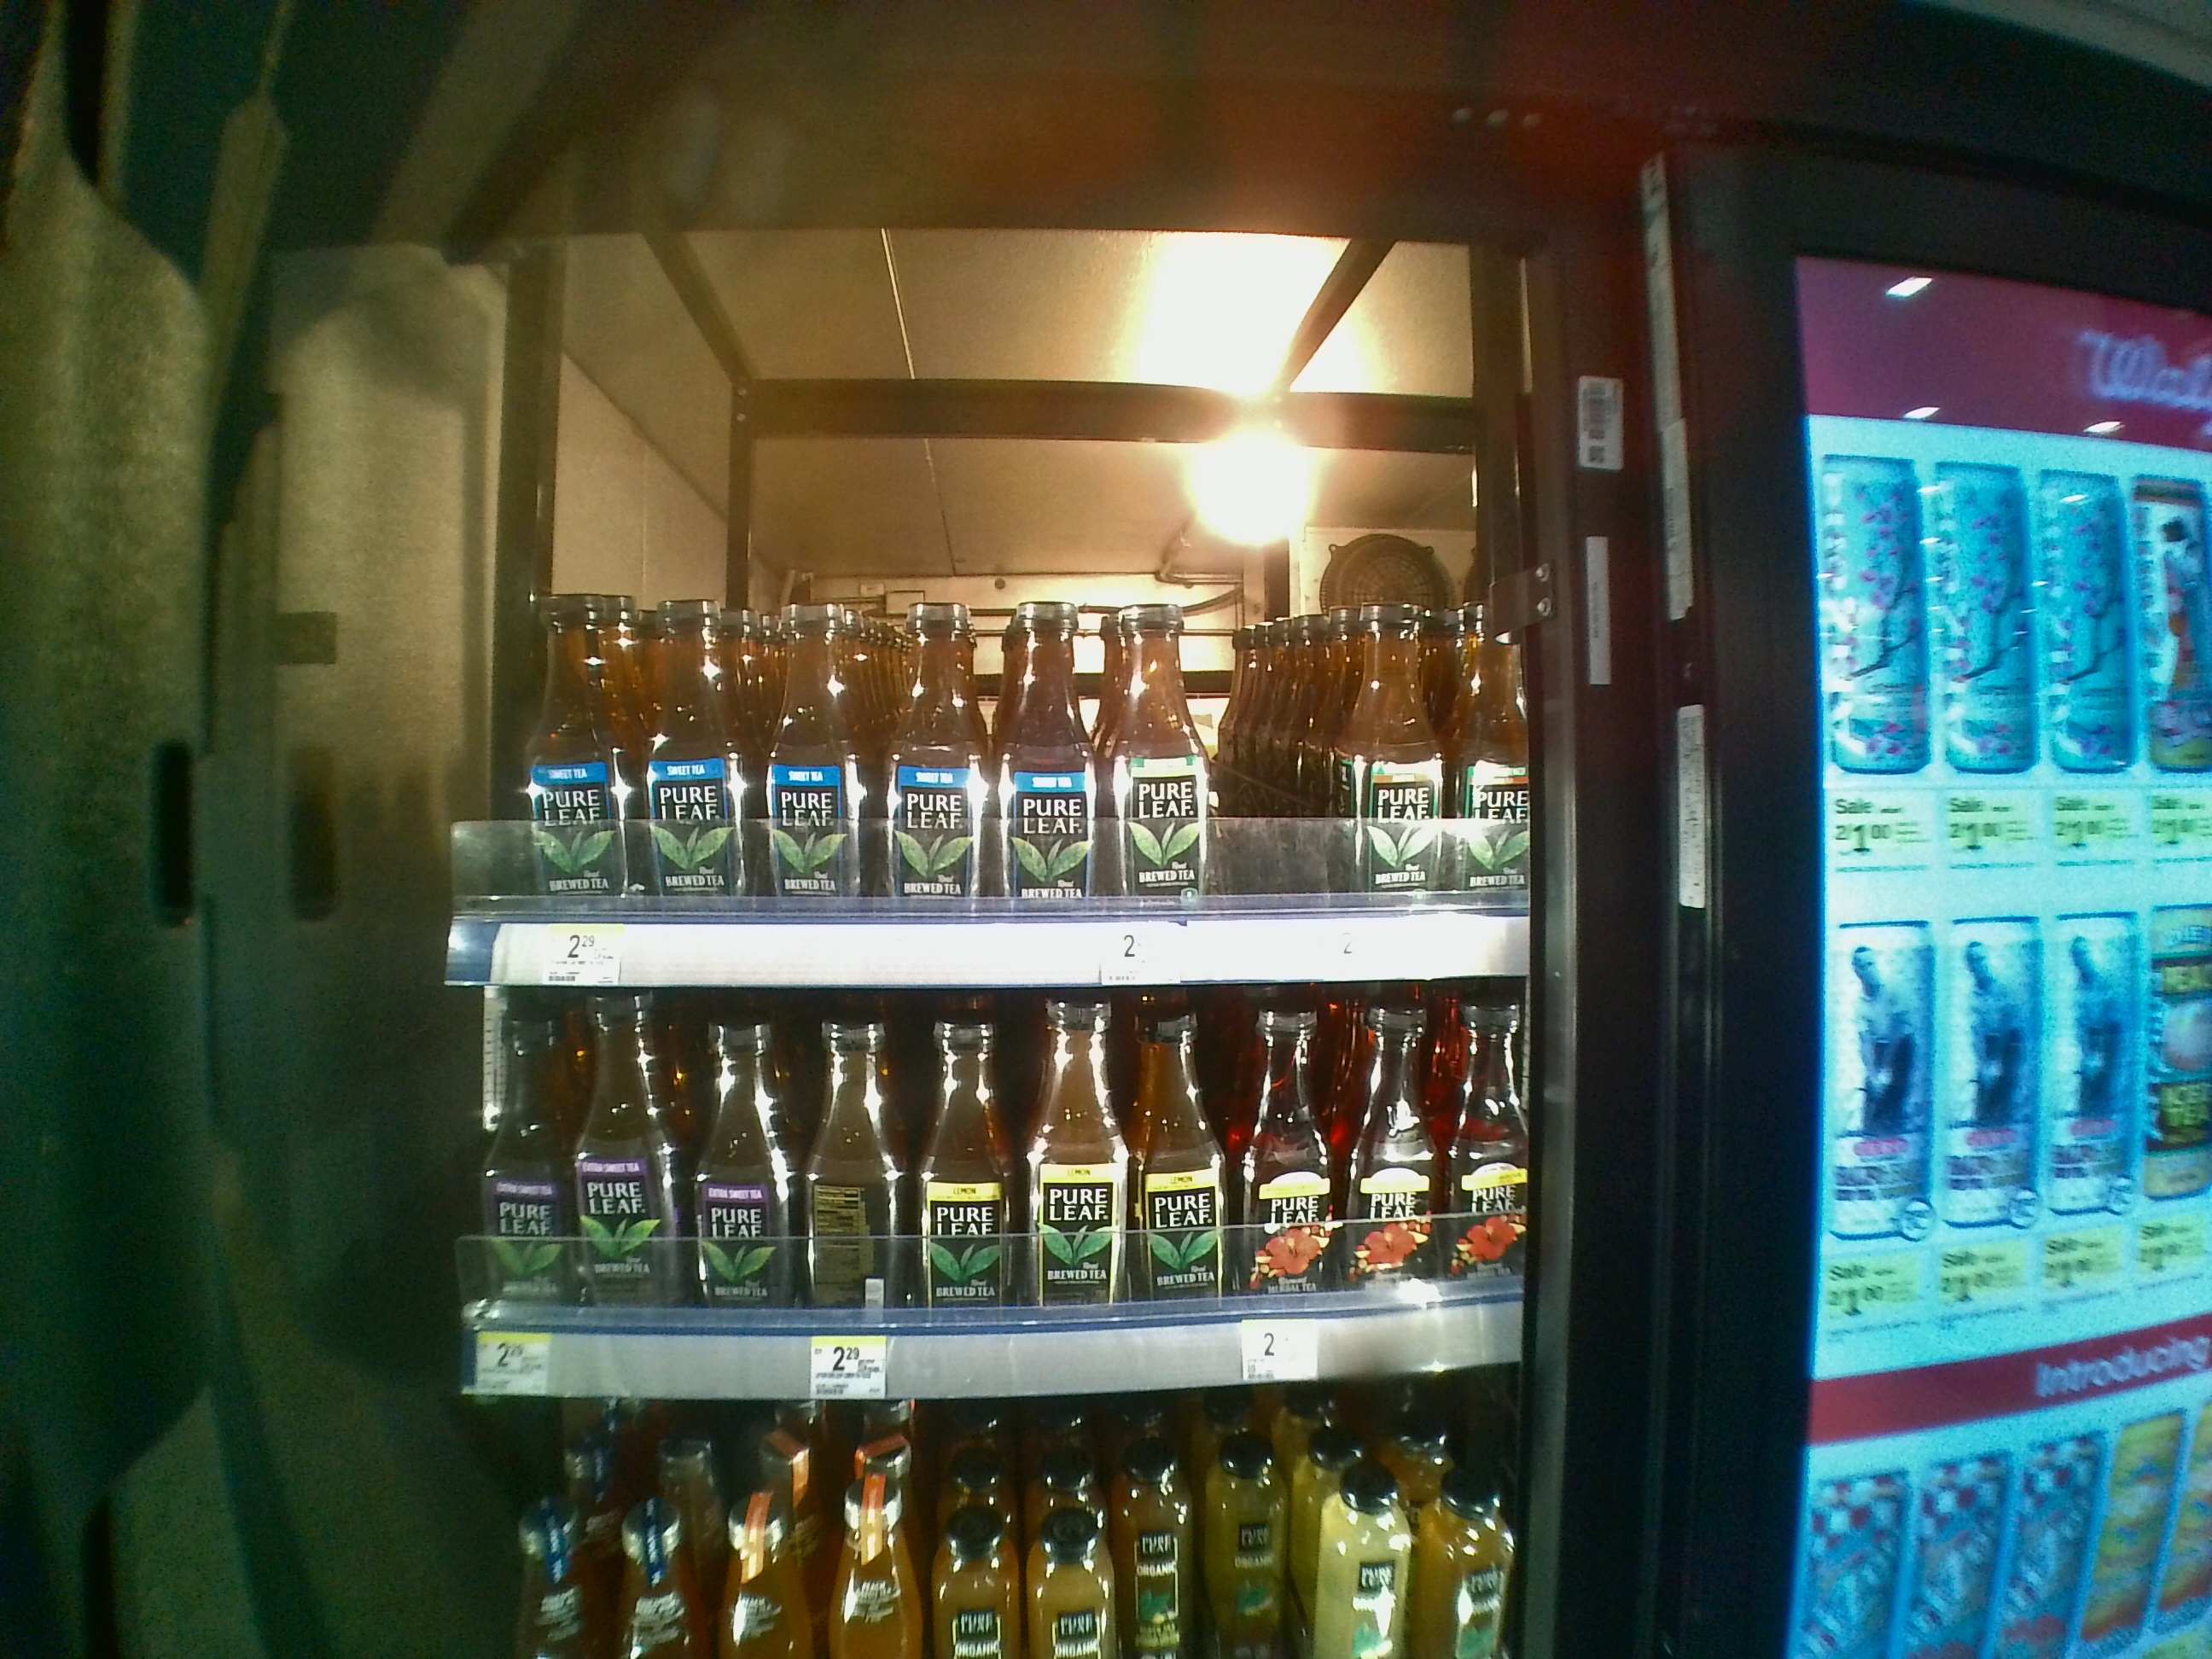shelf: (444, 256, 1524, 979), (446, 985, 1521, 1401)
